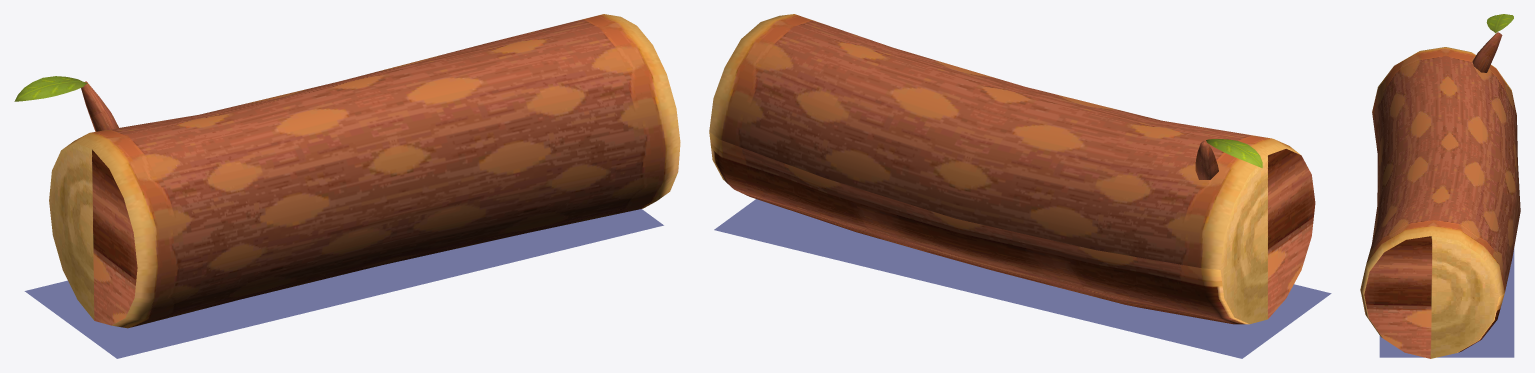
The model's file is fobj_bench_log.fbx.
3 views of the same model, side by side, from view 1: azimuth 30°, elevation 25°; view 2: azimuth 150°, elevation 25°; view 3: azimuth 270°, elevation 25° (orthographic). The views are drawn at different scales.
Visible parts, largest first — view 1: fobj_bench_log, sdw_square; view 2: fobj_bench_log, sdw_square; view 3: fobj_bench_log, sdw_square.
Part boxes in pixels (x1=…): fobj_bench_log: x1=14, y1=14, x2=680, y2=328; sdw_square: x1=24, y1=209, x2=663, y2=358; fobj_bench_log: x1=709, y1=14, x2=1315, y2=324; sdw_square: x1=714, y1=199, x2=1331, y2=358; fobj_bench_log: x1=1360, y1=14, x2=1520, y2=358; sdw_square: x1=1379, y1=248, x2=1514, y2=357.
Bounding box in the file's own units: 0.1869 × 0.0682 × 0.0619.
